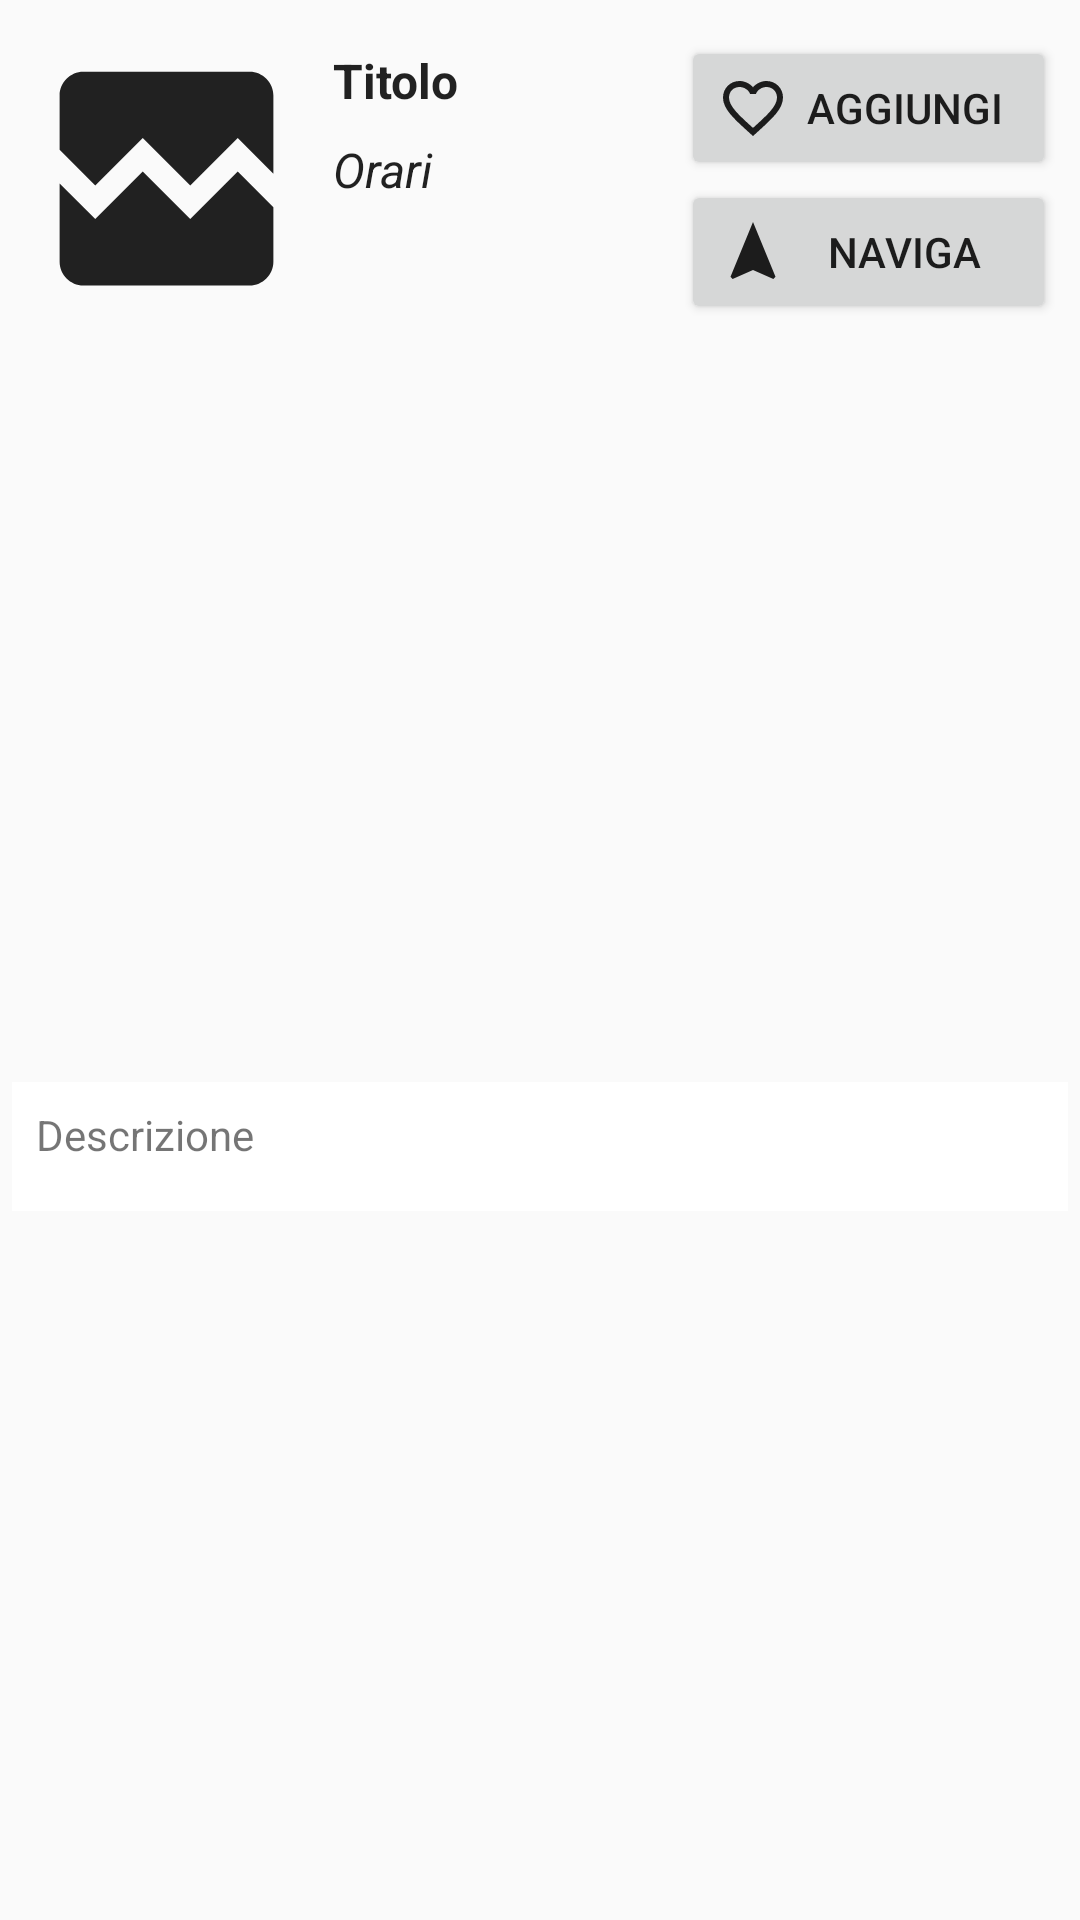

Icon click points for this 1080px x 1920px phone screenshot, format (x,y):
broken: (166,178)
